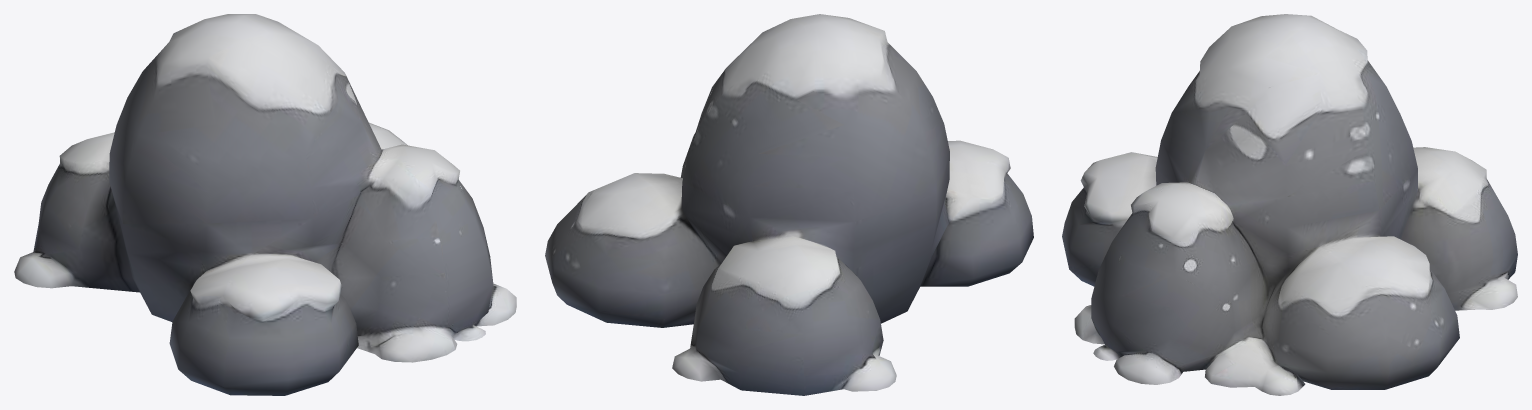
The model's file is boulders.glb.
3 renders of one model, left to right at view 1: azimuth 30°, elevation 25°; view 2: azimuth 150°, elevation 25°; view 3: azimuth 270°, elevation 25°, orthographic. The views are drawn at different scales.
Visible parts, largest first — view 1: tripo_node_939b3454-1b30-4ec7-8405-18ba4239fd5c; view 2: tripo_node_939b3454-1b30-4ec7-8405-18ba4239fd5c; view 3: tripo_node_939b3454-1b30-4ec7-8405-18ba4239fd5c.
Part boxes in pixels (box(x1,y1,x2,y2)): tripo_node_939b3454-1b30-4ec7-8405-18ba4239fd5c: box(14, 14, 516, 395); tripo_node_939b3454-1b30-4ec7-8405-18ba4239fd5c: box(545, 14, 1033, 395); tripo_node_939b3454-1b30-4ec7-8405-18ba4239fd5c: box(1062, 14, 1517, 395).
Bounding box in the file's own units: 0.9082 × 0.6465 × 0.998.
1 material, 1 textured.
